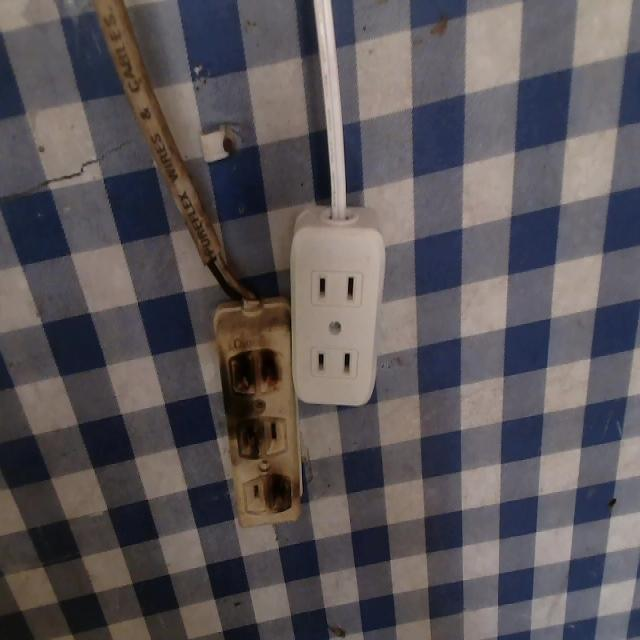-: (222, 337, 286, 399), (260, 460, 295, 525), (227, 414, 262, 462)
